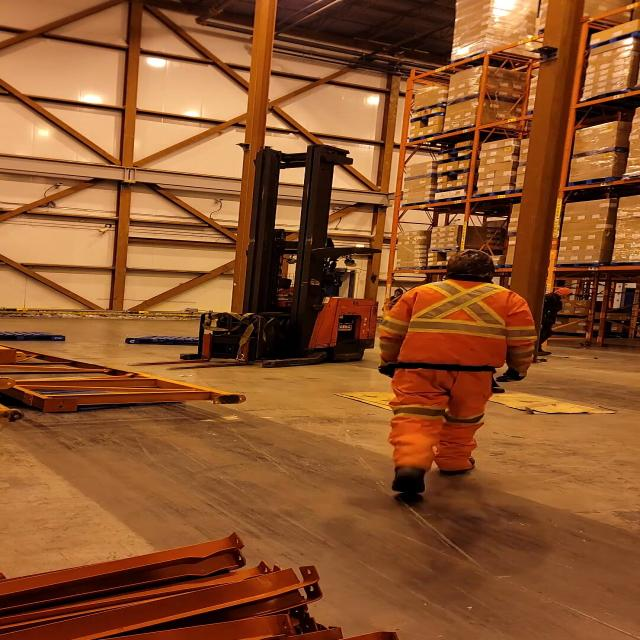forklift: (177, 152, 380, 368)
human: (359, 248, 547, 506), (537, 284, 581, 346)
objectofinterest: (2, 343, 248, 420), (330, 387, 463, 414), (473, 390, 617, 414), (120, 331, 223, 348), (0, 330, 76, 341)
